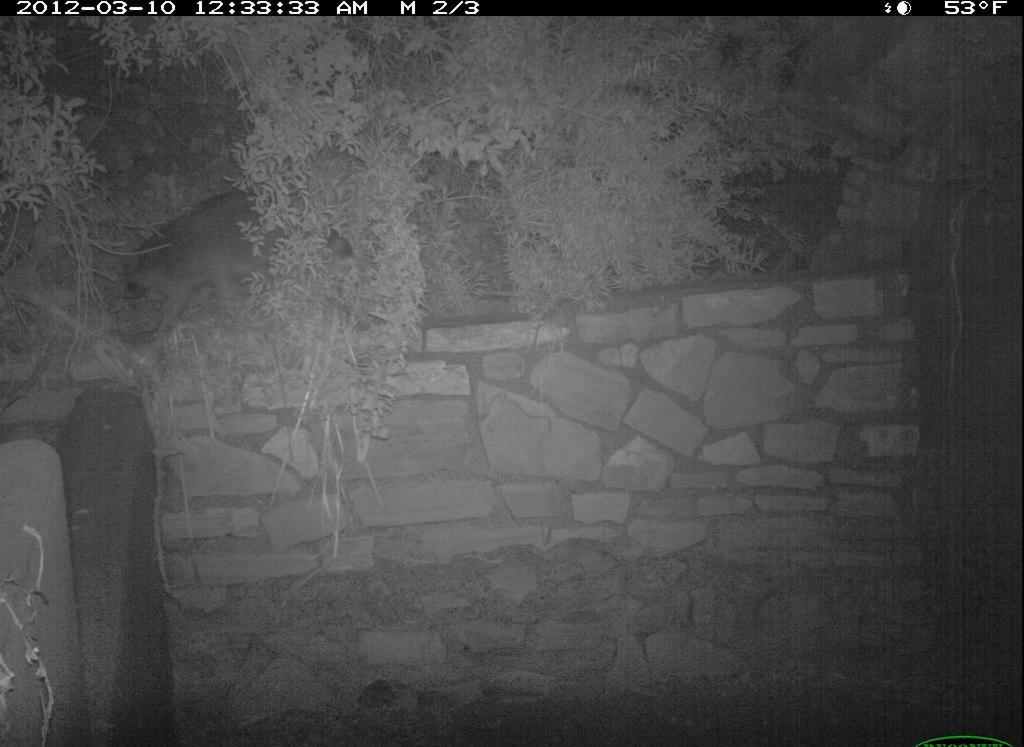raccoon: (114, 171, 374, 335)
